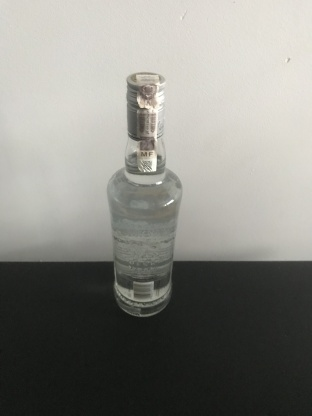nakretka: (124, 70, 167, 140)
